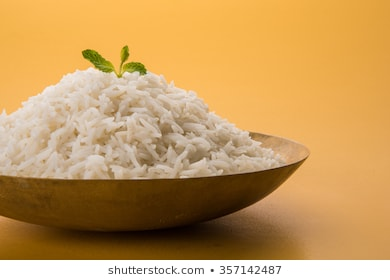plain rice: (2, 72, 267, 173)
